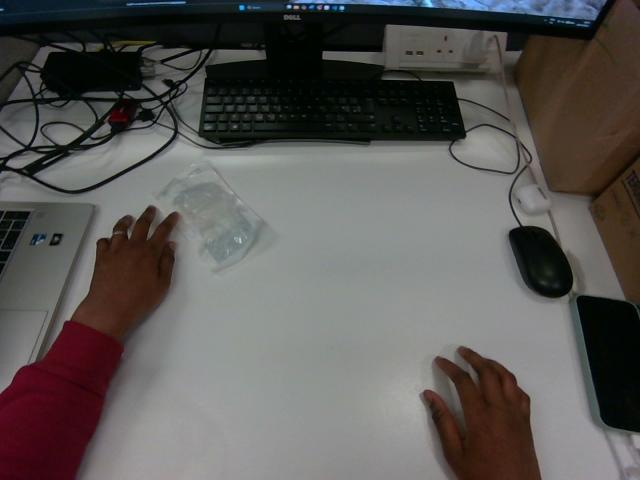gallipot: (155, 164, 261, 270)
